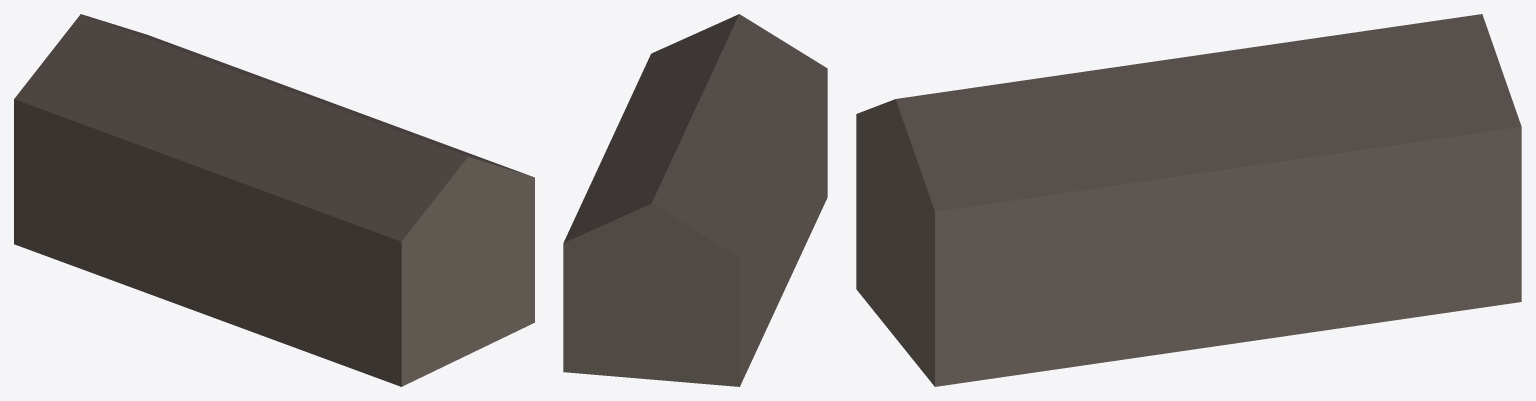
3 renders of one model, left to right at view 1: azimuth 30°, elevation 25°; view 2: azimuth 150°, elevation 25°; view 3: azimuth 270°, elevation 25°, orthographic. The views are drawn at different scales.
Visible parts, largest first — view 1: HP-w859457318; view 2: HP-w859457318; view 3: HP-w859457318.
Boxes of the visible parts, bbox=[...] form: HP-w859457318: bbox=[14, 14, 534, 386]; HP-w859457318: bbox=[563, 14, 827, 386]; HP-w859457318: bbox=[856, 14, 1521, 386].
Size of the model in its own units: 13.42 by 8.19 by 20.64.
